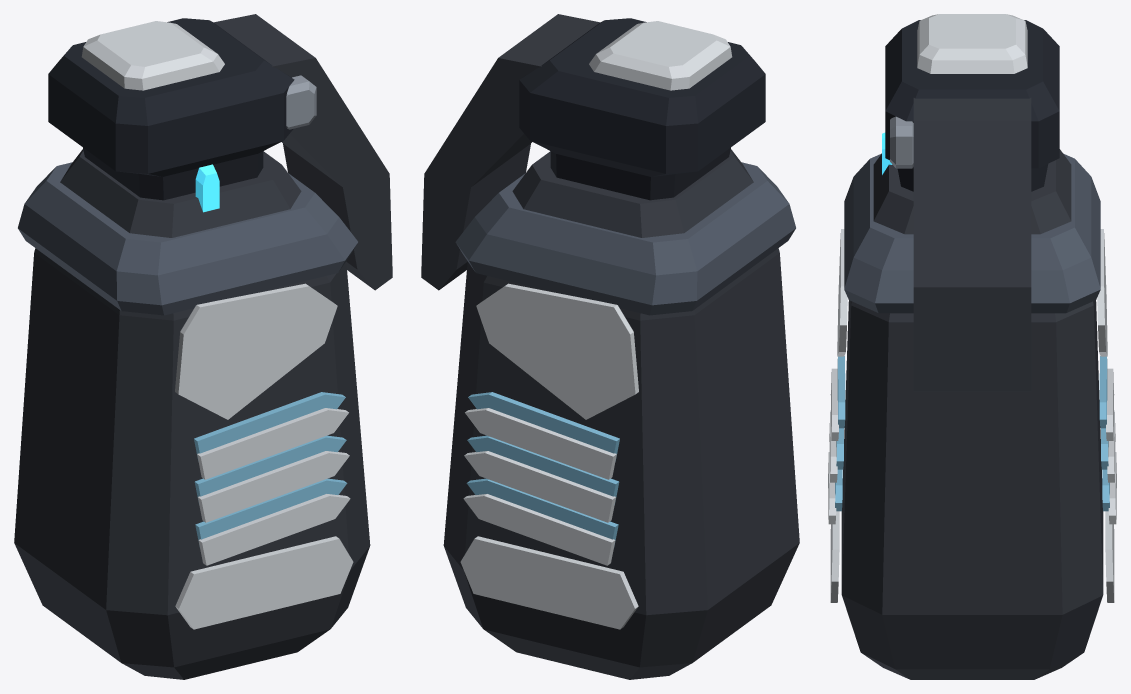
The model's file is Frost.fbx.
The picture shows the model from 3 angles, left to right: view 1: azimuth 30°, elevation 25°; view 2: azimuth 150°, elevation 25°; view 3: azimuth 270°, elevation 25°; orthographic projection. The views are drawn at different scales.
Visible parts, largest first — view 1: Body, FuseHead, Band, Lever.001, Shoulder_Front, Heel_Front, TopPlate, VentLipFront3, VentLipFront2, VentLipFront1, VentFront1, VentFront3 (+3 smaller); view 2: Body, FuseHead, Band, Lever.001, Shoulder_Back, Heel_Back, TopPlate, VentLipBack3, VentLipBack2, VentLipBack1, VentBack1, VentBack3 (+1 smaller); view 3: Body, Lever.001, Band, FuseHead, TopPlate, Pin.001, Shoulder_Back, Shoulder_Front, Heel_Back, Heel_Front, VentBack1, VentFront1 (+2 smaller).
Boxes of the visible parts, left/top/right/bottom form: Body: left=14, top=149, right=370, bottom=679; FuseHead: left=48, top=18, right=294, bottom=200; Band: left=18, top=162, right=358, bottom=315; Lever.001: left=213, top=14, right=392, bottom=290; Shoulder_Front: left=175, top=283, right=337, bottom=419; Heel_Front: left=175, top=536, right=353, bottom=629; TopPlate: left=81, top=21, right=224, bottom=90; VentLipFront3: left=198, top=494, right=350, bottom=565; VentLipFront2: left=198, top=451, right=349, bottom=522; VentLipFront1: left=197, top=408, right=348, bottom=479; VentFront1: left=194, top=392, right=345, bottom=461; VentFront3: left=195, top=478, right=347, bottom=547; Body: left=443, top=149, right=799, bottom=679; FuseHead: left=519, top=18, right=765, bottom=200; Band: left=455, top=162, right=795, bottom=315; Lever.001: left=421, top=14, right=600, bottom=290; Shoulder_Back: left=476, top=283, right=638, bottom=419; Heel_Back: left=460, top=536, right=638, bottom=629; TopPlate: left=589, top=21, right=732, bottom=90; VentLipBack3: left=463, top=494, right=615, bottom=565; VentLipBack2: left=464, top=451, right=615, bottom=522; VentLipBack1: left=465, top=408, right=616, bottom=479; VentBack1: left=468, top=392, right=619, bottom=461; VentBack3: left=466, top=478, right=618, bottom=547; Body: left=841, top=149, right=1103, bottom=679; Lever.001: left=913, top=98, right=1031, bottom=391; Band: left=844, top=153, right=1100, bottom=313; FuseHead: left=885, top=20, right=1059, bottom=191; TopPlate: left=917, top=14, right=1027, bottom=73; Pin.001: left=890, top=116, right=913, bottom=168; Shoulder_Back: left=1097, top=229, right=1107, bottom=356; Shoulder_Front: left=837, top=229, right=847, bottom=356; Heel_Back: left=1105, top=511, right=1114, bottom=602; Heel_Front: left=830, top=511, right=839, bottom=602; VentBack1: left=1099, top=356, right=1107, bottom=428; VentFront1: left=837, top=356, right=845, bottom=428.
Bounding box in the file's own units: 0.291 × 0.551 × 0.2454.
